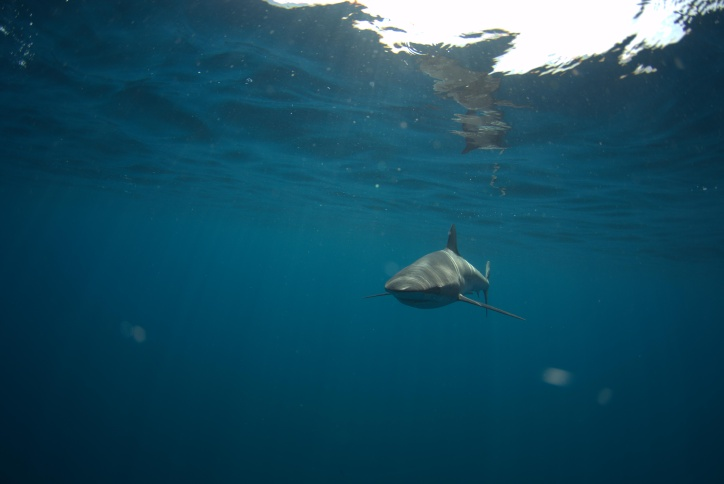Sedoso: (357, 220, 526, 336)
